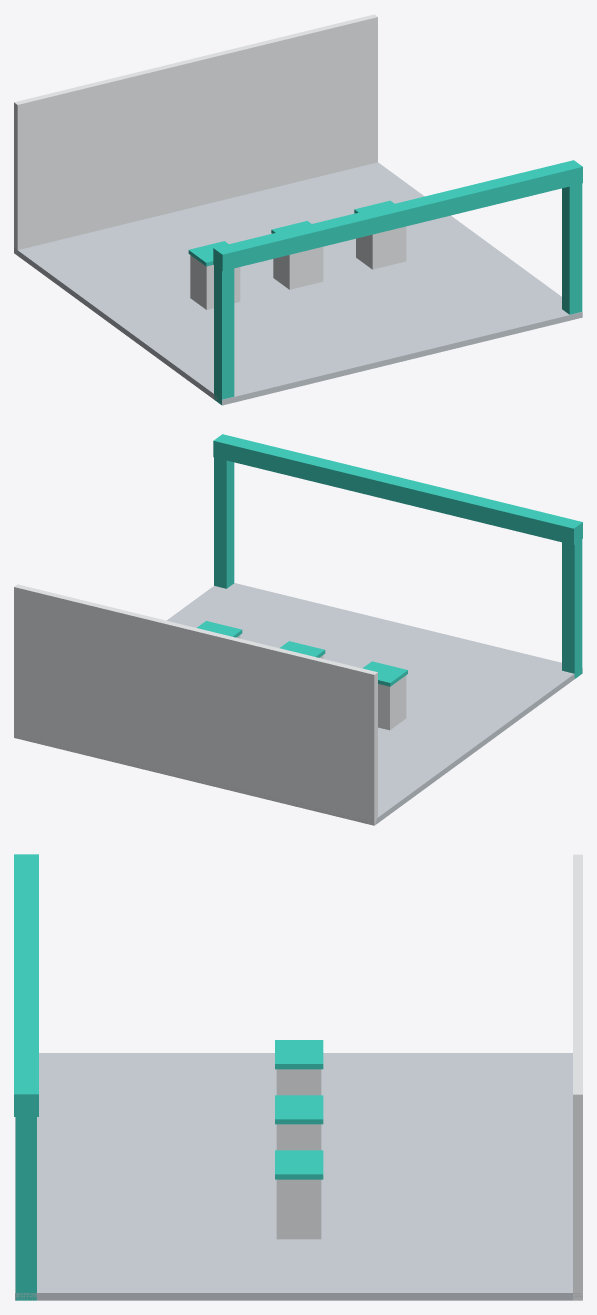
3 renders of one model, top to bottom at view 1: azimuth 30°, elevation 25°; view 2: azimuth 150°, elevation 25°; view 3: azimuth 270°, elevation 25°, orthographic. The views are drawn at different scales.
Visible parts, largest first — view 1: Exhibition Booth Concept; view 2: Exhibition Booth Concept; view 3: Exhibition Booth Concept.
Part boxes in pixels (x1,y1,x2,y2): Exhibition Booth Concept: (14,14,582,405); Exhibition Booth Concept: (14,434,582,825); Exhibition Booth Concept: (14,854,582,1300).
Size of the model in its own units: 8 by 3.2 by 8.01.
